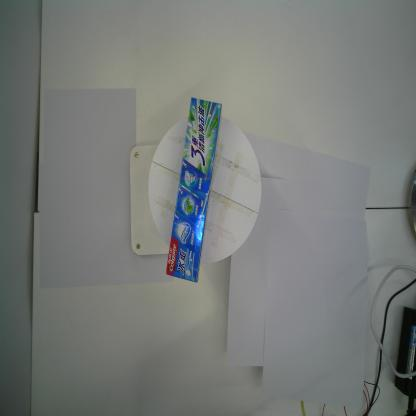Personal Hygiene: (165, 97, 222, 284)
